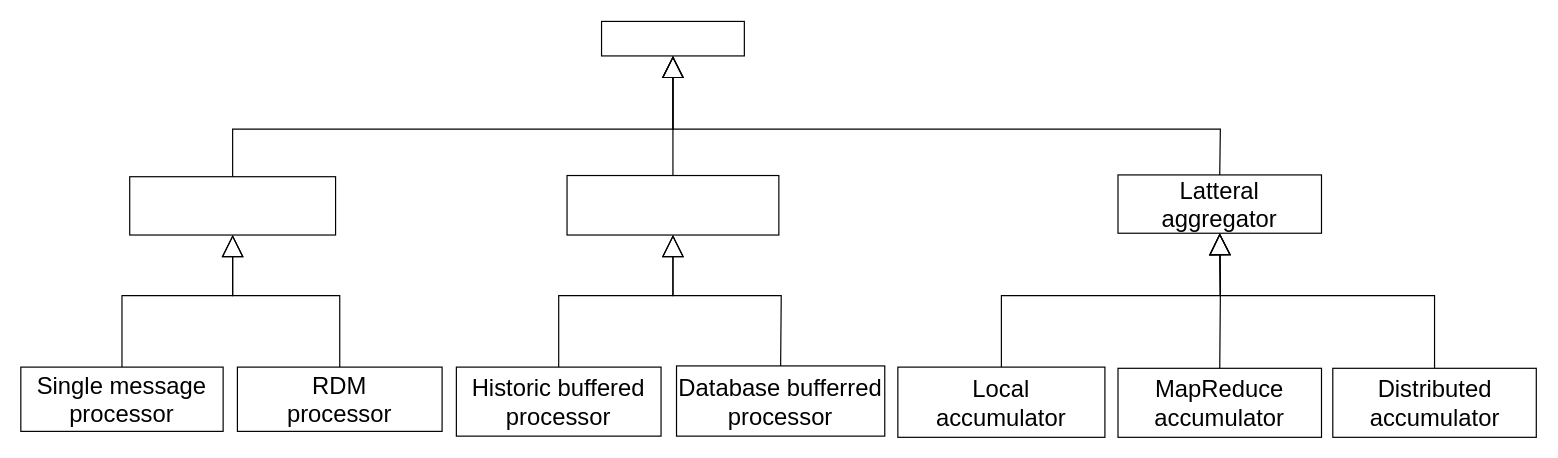
This 1558x458 diagram has some shape labels left out. Here are the shapes that lost their labels. From the top down, the centre of each, then its label:
At point 672,38: "Processor".
At point 232,205: "Transformer".
At point 672,204: "Longitudinal aggregator".
